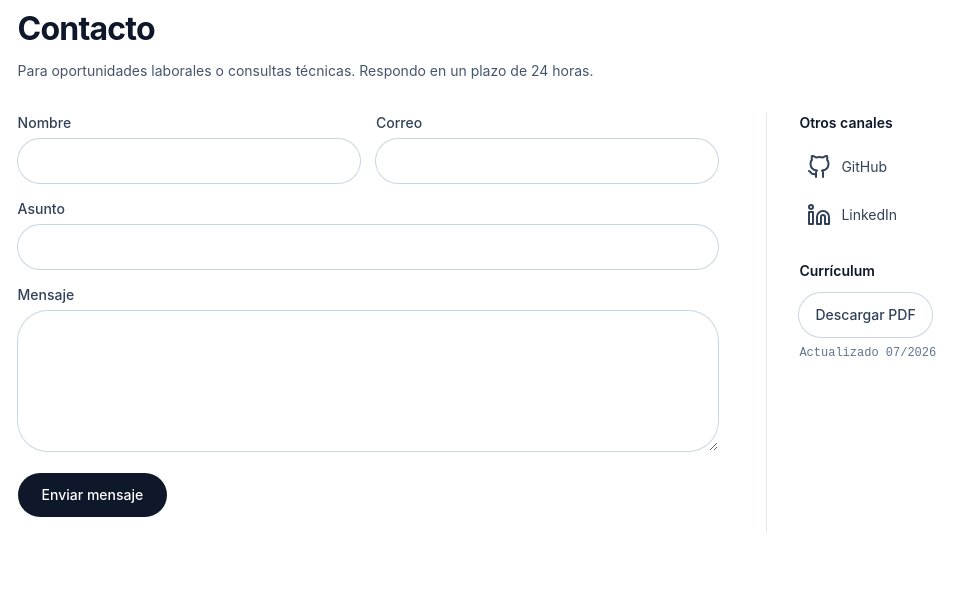
Scenario: <ContactForm /> › muestra el mensaje de error que devuelve el servidor
Type "Ada" into the field labelled "Nombre". click: (189, 161)
box: [18,139,360,183]
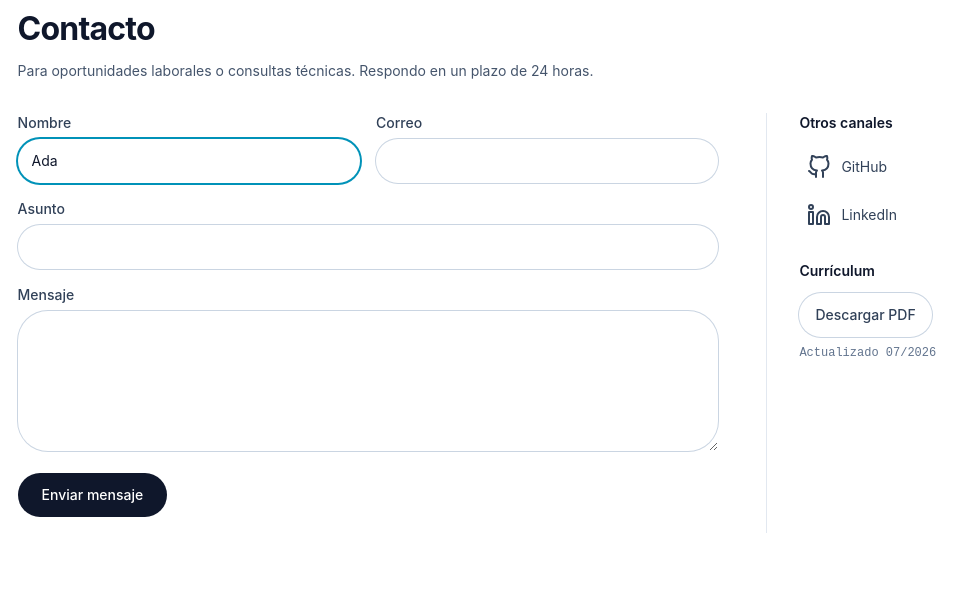
Type "ada@example.com" into the field labelled "Correo". click: (547, 161)
box: [376,139,718,183]
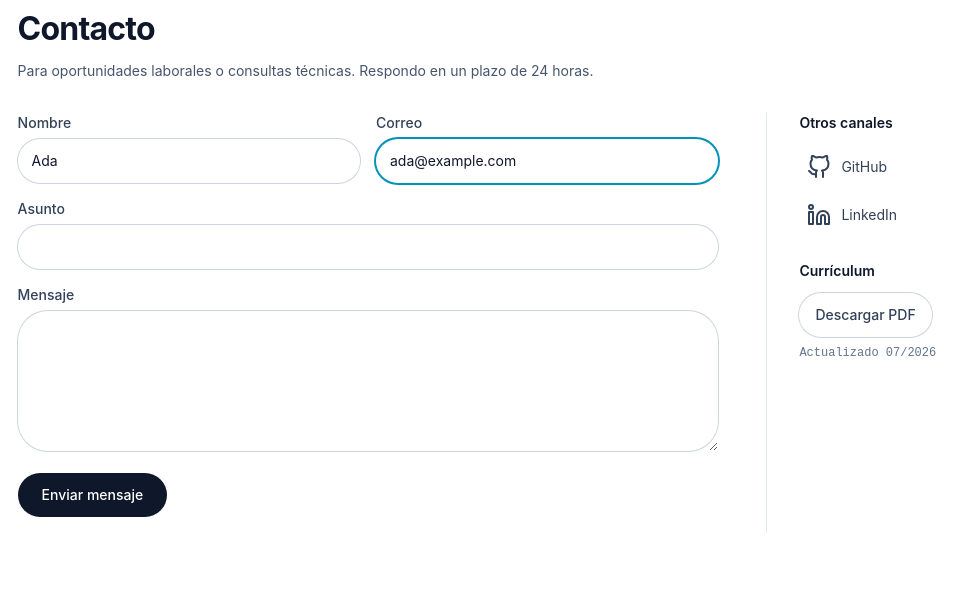
Type "Hola" into the field labelled "Asunto". click: (368, 247)
box: [18,225,718,269]
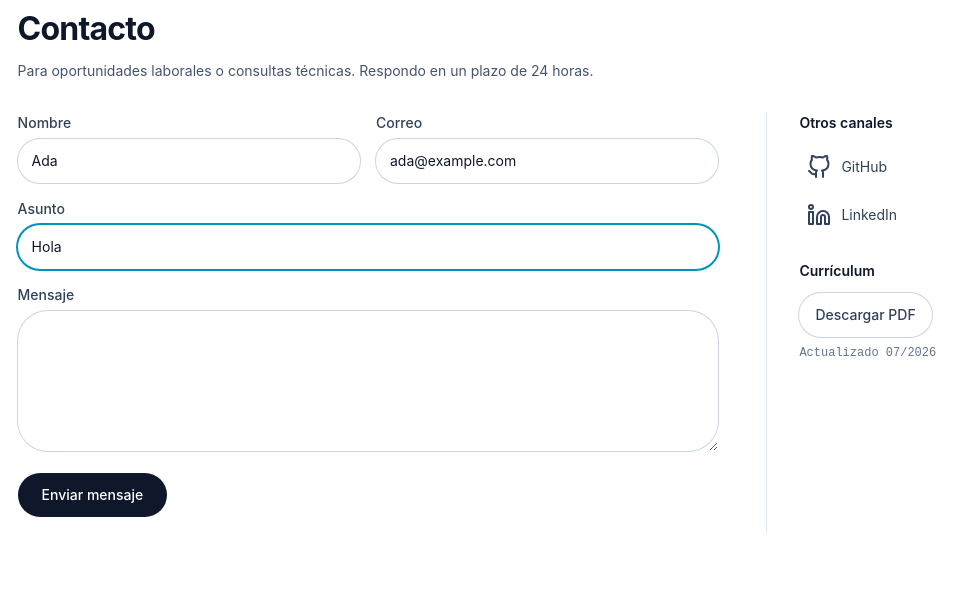
Type "Mensaje de prueba" into the text box labelled "Mensaje". click: (368, 381)
box: [18,311,718,451]
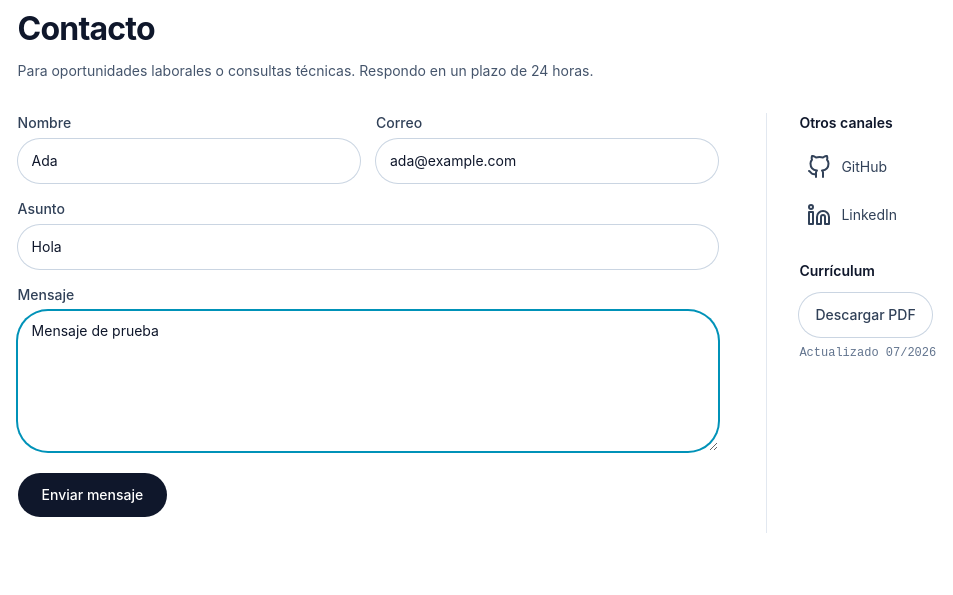
Click the button "Enviar mensaje". click: (92, 495)
box: [18,473,167,517]
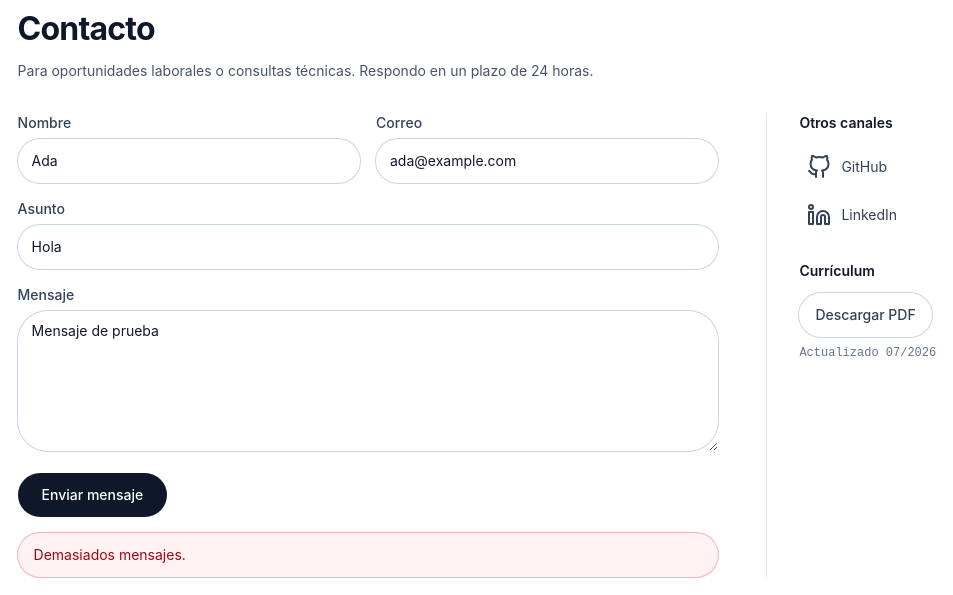
expect the text "Demasiados mensajes." is shown: met, box [18,533,718,577]
